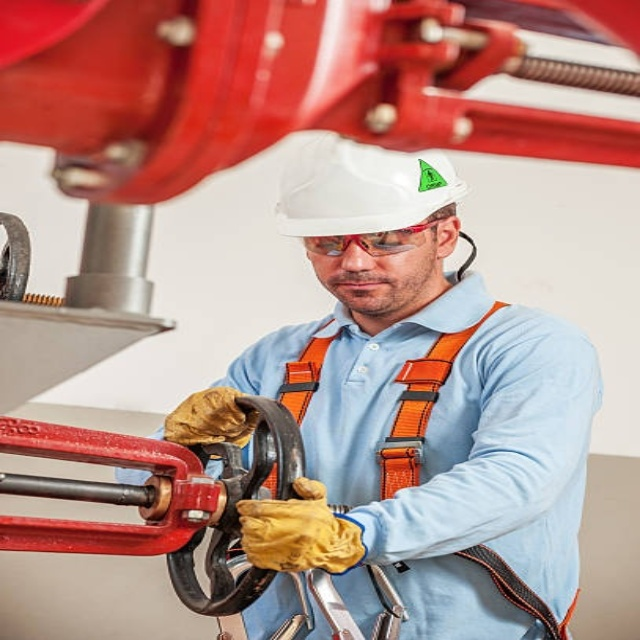Gafas: (304, 216, 441, 257)
Guantes: (233, 477, 367, 573), (164, 387, 262, 450)
Sin_mascara: (326, 273, 406, 307)
